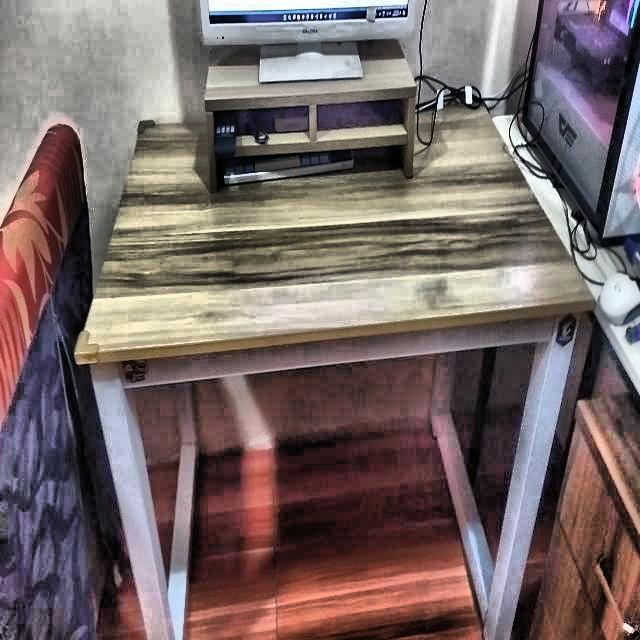mesa: (85, 110, 581, 640)
